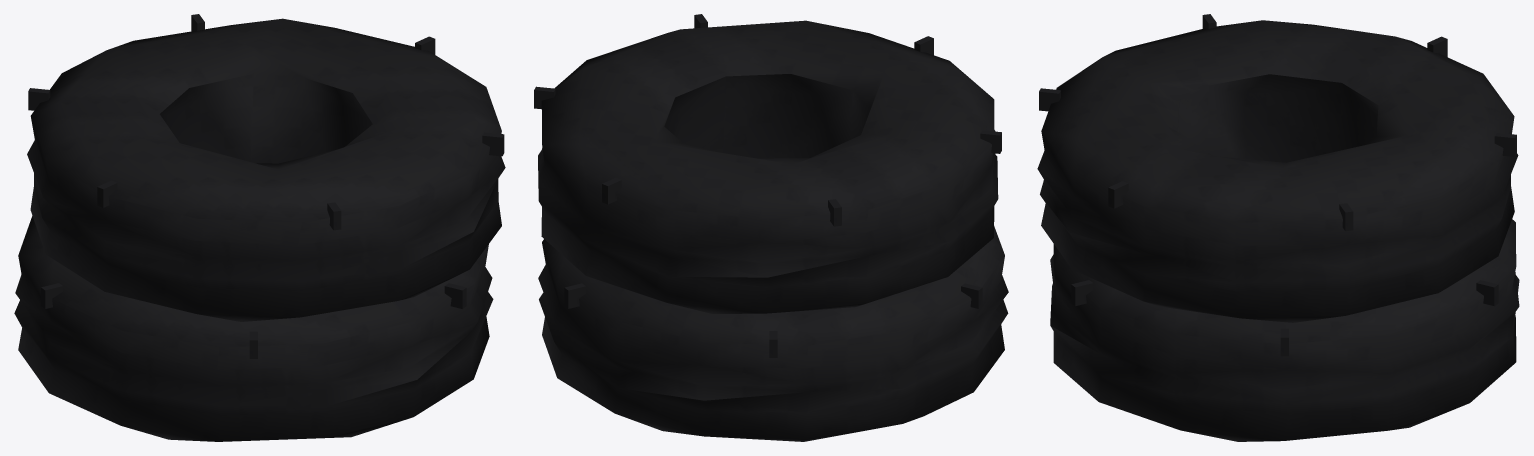
Rendered from pilha-de-pneus-2-leve.glb.
The picture shows the model from 3 angles, left to right: view 1: azimuth 30°, elevation 25°; view 2: azimuth 150°, elevation 25°; view 3: azimuth 270°, elevation 25°; orthographic projection. The views are drawn at different scales.
Parts seen in each view (by area): view 1: pneu-1, pneu-0; view 2: pneu-1, pneu-0; view 3: pneu-1, pneu-0.
Boxes of the visible parts, left/top/right/bottom form: pneu-1: left=27, top=18, right=505, bottom=321; pneu-0: left=14, top=216, right=493, bottom=441; pneu-1: left=538, top=20, right=998, bottom=313; pneu-0: left=538, top=226, right=1008, bottom=441; pneu-1: left=1037, top=20, right=1518, bottom=322; pneu-0: left=1050, top=219, right=1519, bottom=441.
Size of the model in its own units: 0.712 by 0.4006 by 0.6966.
Materials: 1 (1 with a texture image).
